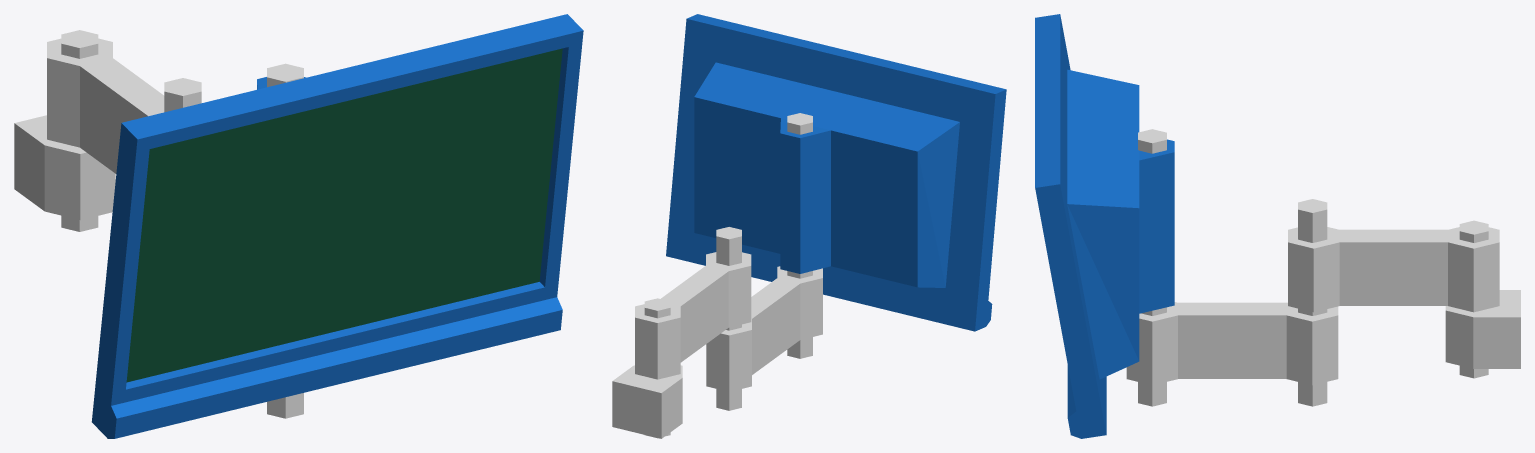
The model's file is T_monitor.fbx.
The picture shows the model from 3 angles, left to right: view 1: azimuth 30°, elevation 25°; view 2: azimuth 150°, elevation 25°; view 3: azimuth 270°, elevation 25°; orthographic projection. The views are drawn at different scales.
Visible parts, largest first — view 1: Cube, Cylinder, monitor; view 2: Cube, Cylinder, monitor; view 3: Cube, Cylinder, monitor.
Part boxes in pixels (bbox=[...]): Cube: bbox=[91, 14, 583, 438]; Cylinder: bbox=[47, 30, 303, 418]; monitor: bbox=[14, 115, 115, 219]; Cube: bbox=[666, 14, 1006, 331]; Cylinder: bbox=[635, 113, 822, 438]; monitor: bbox=[612, 365, 682, 438]; Cube: bbox=[1035, 14, 1174, 438]; Cylinder: bbox=[1126, 129, 1499, 406]; monitor: bbox=[1445, 290, 1520, 368].
Bounding box in the file's own units: 55.08 × 45.35 × 66.43.
